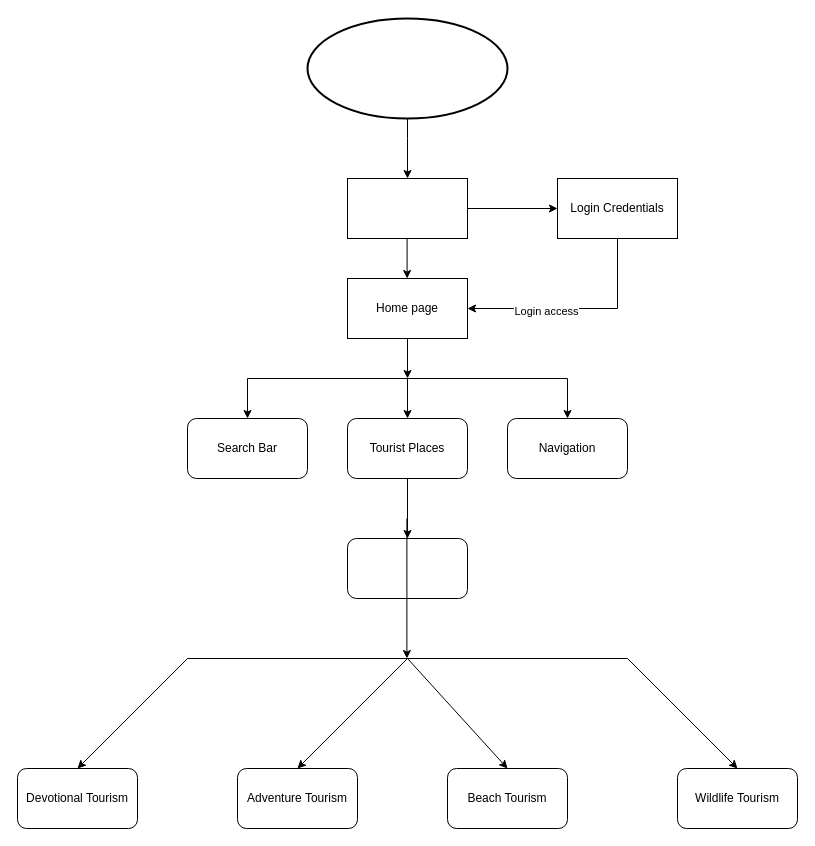
Some shapes in this 815 by 846 pixel diagram are drawn without their labels. Here are the shapes that lost their labels. From the top down, the box of each, then its label:
(306, 17, 508, 119): Tourism Guidance Application
(346, 178, 468, 238): User Login
(346, 538, 468, 598): Tourist places in that state
